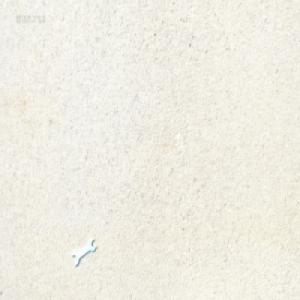Wrench: (72, 238, 97, 267)
